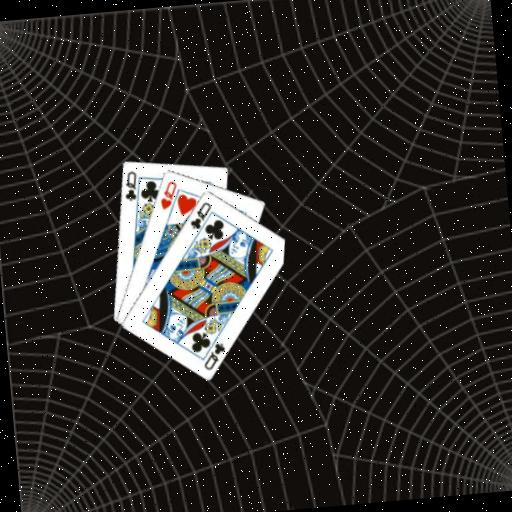QC: (199, 339, 229, 373), (185, 198, 214, 232), (119, 168, 140, 203)
QH: (155, 177, 180, 211)
